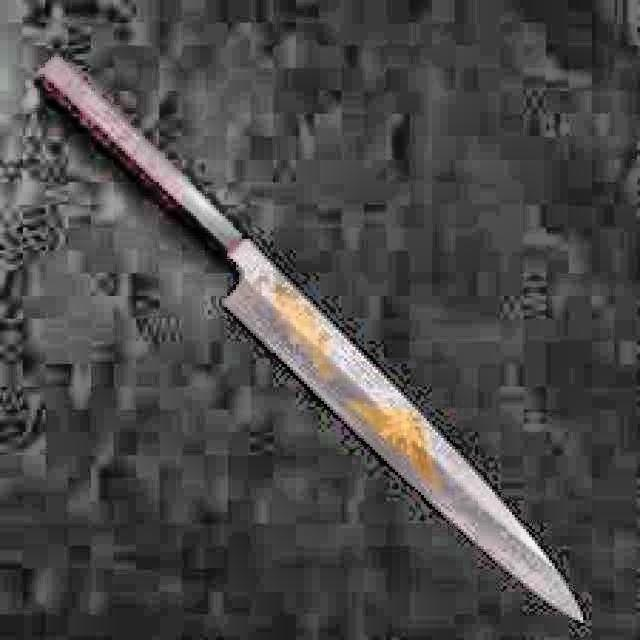knife: (38, 50, 590, 633)
